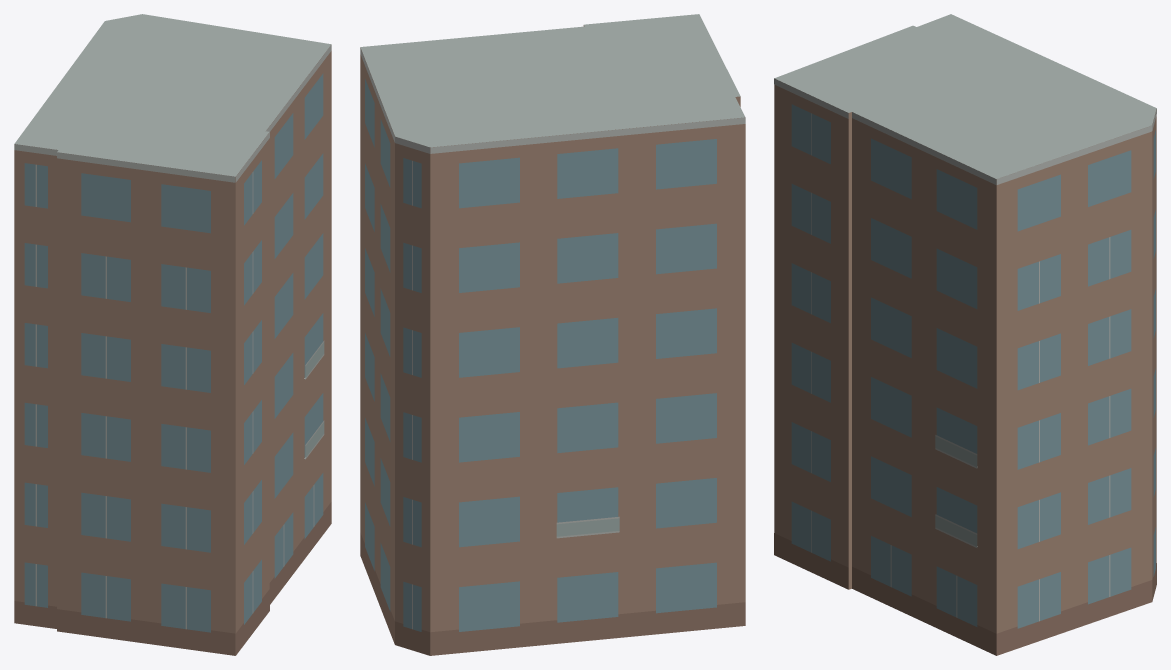
The model's file is survey-upis-32861511.glb.
The picture shows the model from 3 angles, left to right: view 1: azimuth 30°, elevation 25°; view 2: azimuth 150°, elevation 25°; view 3: azimuth 270°, elevation 25°; orthographic projection. The views are drawn at different scales.
Parts seen in each view (by area): view 1: survey-upis-32861511.tmp; view 2: survey-upis-32861511.tmp; view 3: survey-upis-32861511.tmp.
Boxes of the visible parts, box(x1,y1,x2,y2) form: survey-upis-32861511.tmp: box(14, 14, 331, 655); survey-upis-32861511.tmp: box(360, 14, 745, 655); survey-upis-32861511.tmp: box(774, 14, 1156, 655).
Bounding box in the file's own units: 14.12 × 18.99 × 13.82.
